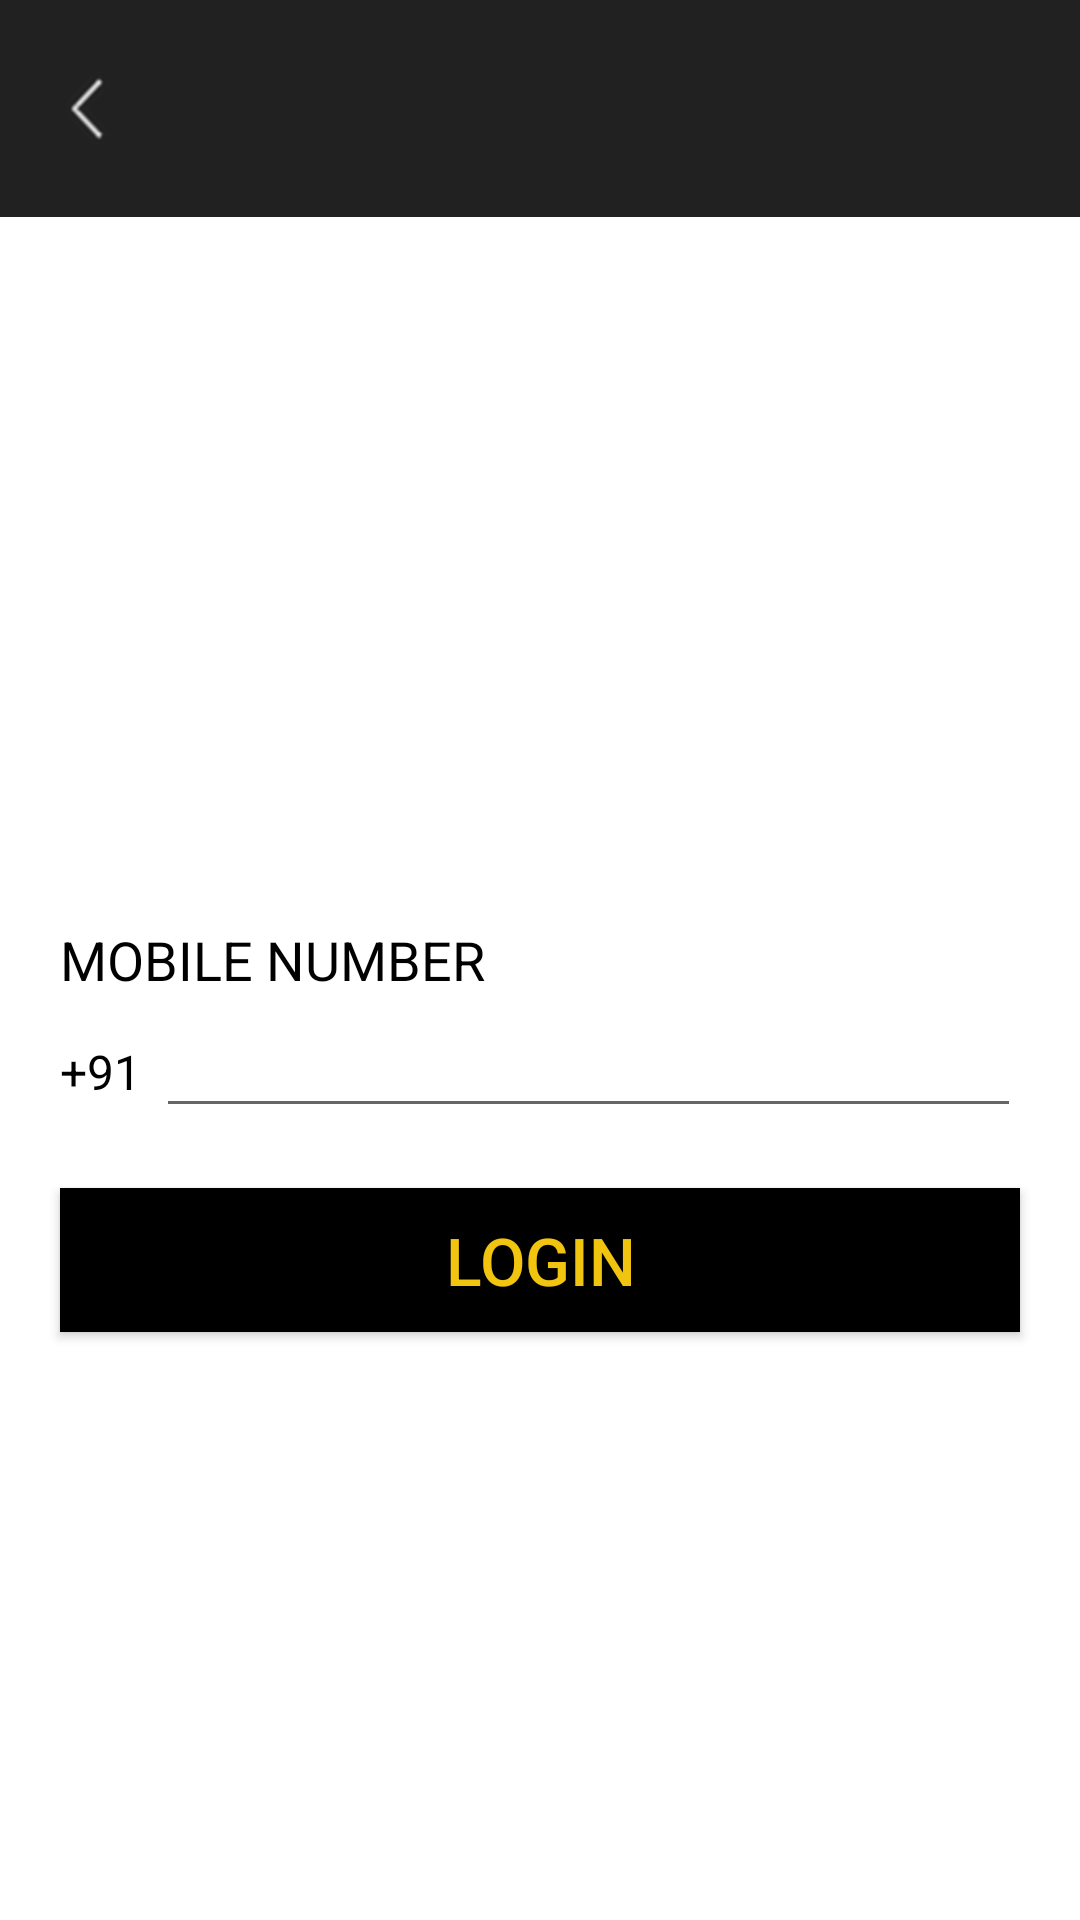

Named icons in this screenshot (1080px×1920px) and their centers, (x,y):
Back button to navigate previous activity: (87,108)
